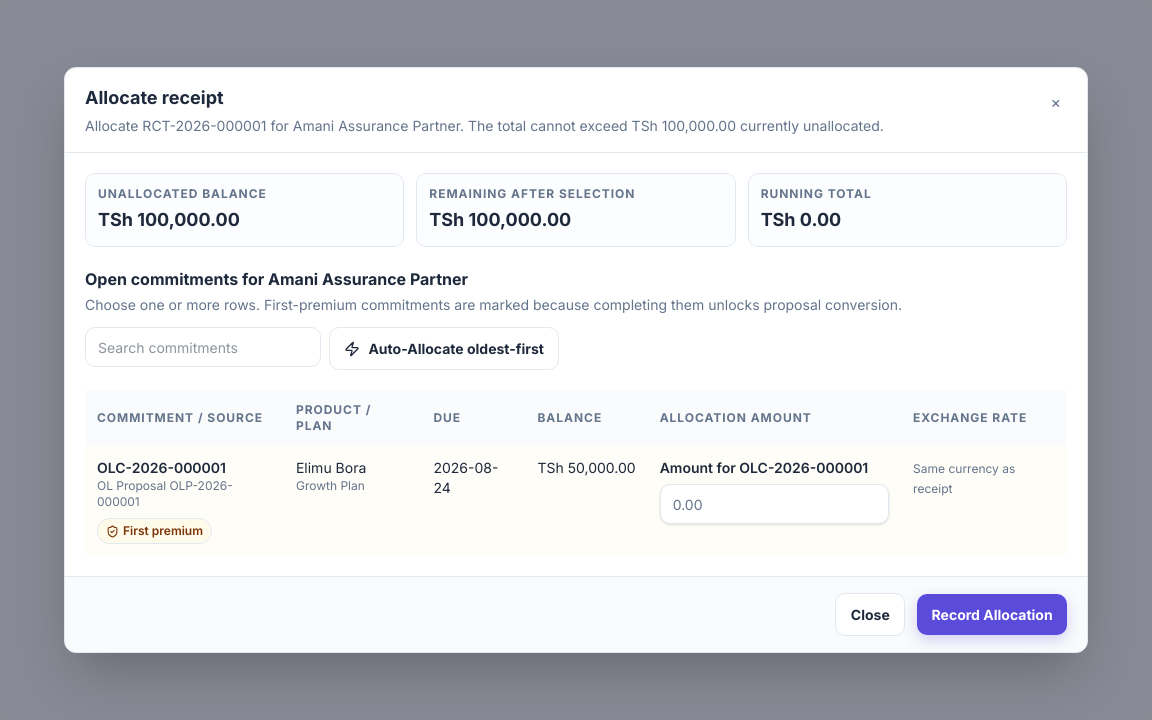
Test case: ReceiptAllocationModal Prompt 5 › confirms oldest-first auto-allocation and renders its result summary
Expected: the text "OLC-2026-000001" is shown, [97,459,226,476]
What coordinates should you click on to do the following:
click the button "Auto-Allocate oldest-first"
I would click on:
 (444, 348)
Its box is [329,327,559,370].
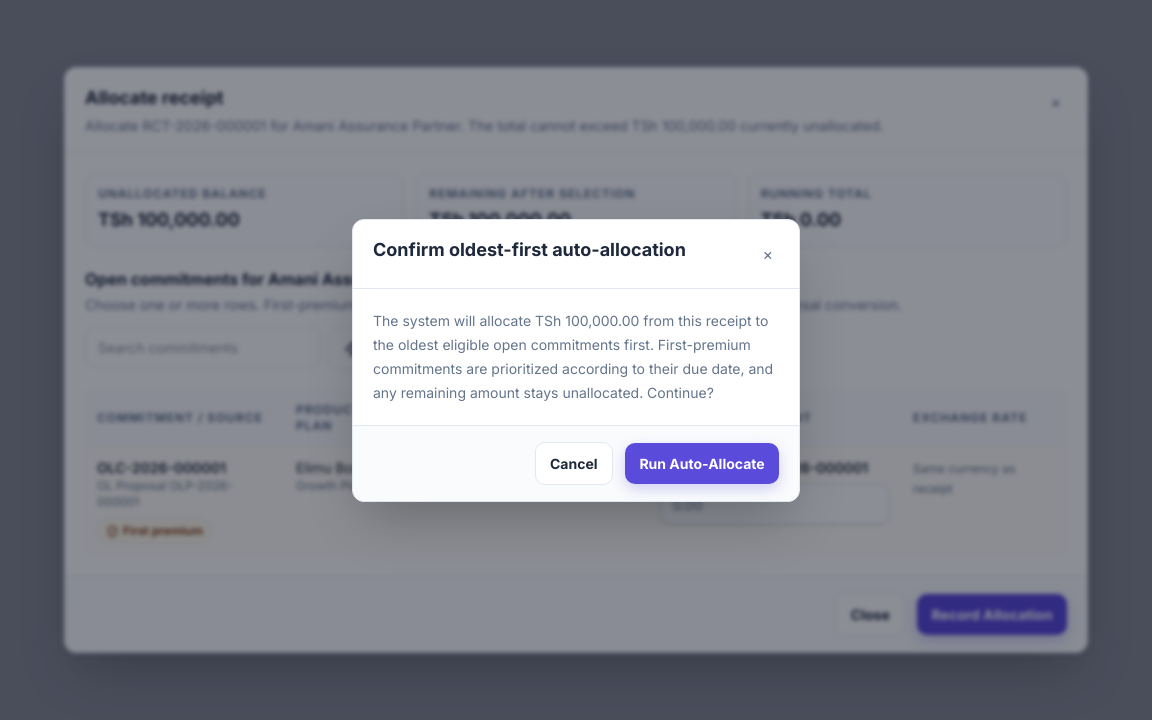
Now the dialog that starts with "Confirm oldest-first auto-allocation" is shown
Now the dialog that starts with "Confirm oldest-first auto-allocation" shows "oldest eligible open commitments", box [373,312,773,400]
What coordinates should you click on to do the following:
click the button "Run Auto-Allocate"
I would click on:
 (702, 463)
Its box is [625,442,779,484].
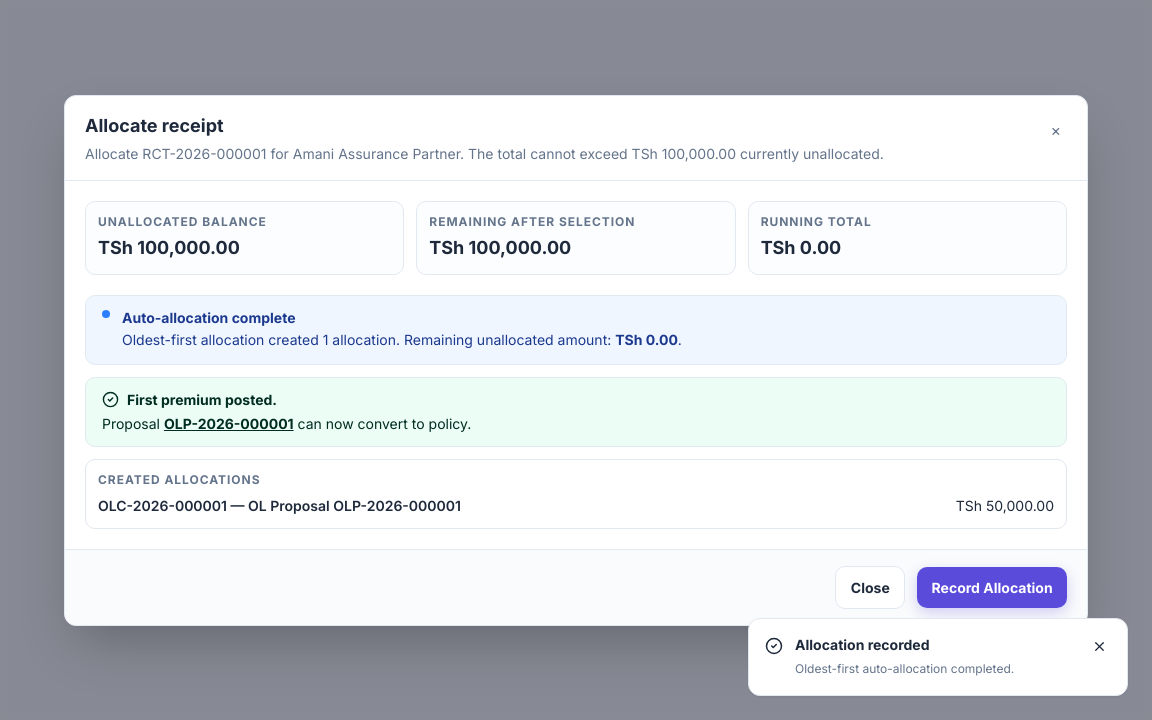
Now the text "Auto-allocation complete" is shown, box [122,308,296,326]
Now the text "Remaining unallocated amount" is shown, box [396,330,615,348]
Now the text "OLC-2026-000001 — OL Proposal OLP-2026-000001" is shown, box [98,496,461,516]
